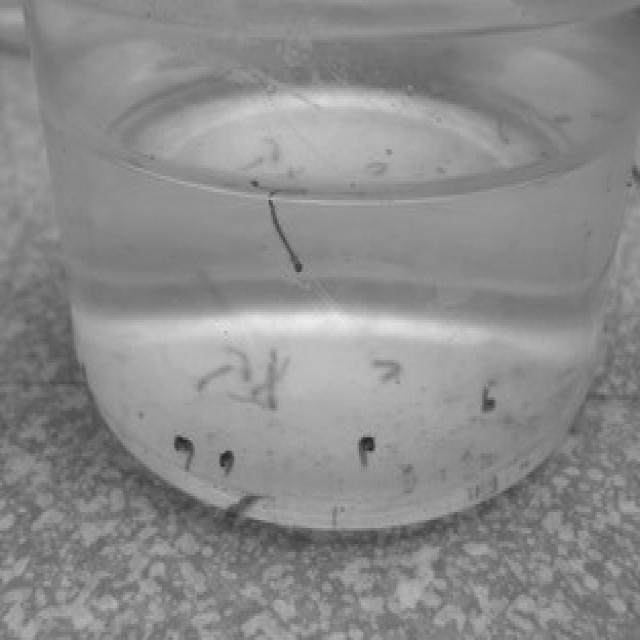larvas: (270, 201, 304, 273), (249, 356, 287, 395), (224, 488, 270, 514), (199, 365, 235, 389), (267, 349, 280, 412), (482, 380, 502, 414), (174, 435, 194, 469), (355, 436, 378, 464), (236, 391, 268, 408), (235, 352, 252, 383), (376, 360, 402, 380), (217, 448, 236, 473), (266, 138, 280, 164), (248, 149, 265, 170), (368, 159, 387, 175)
